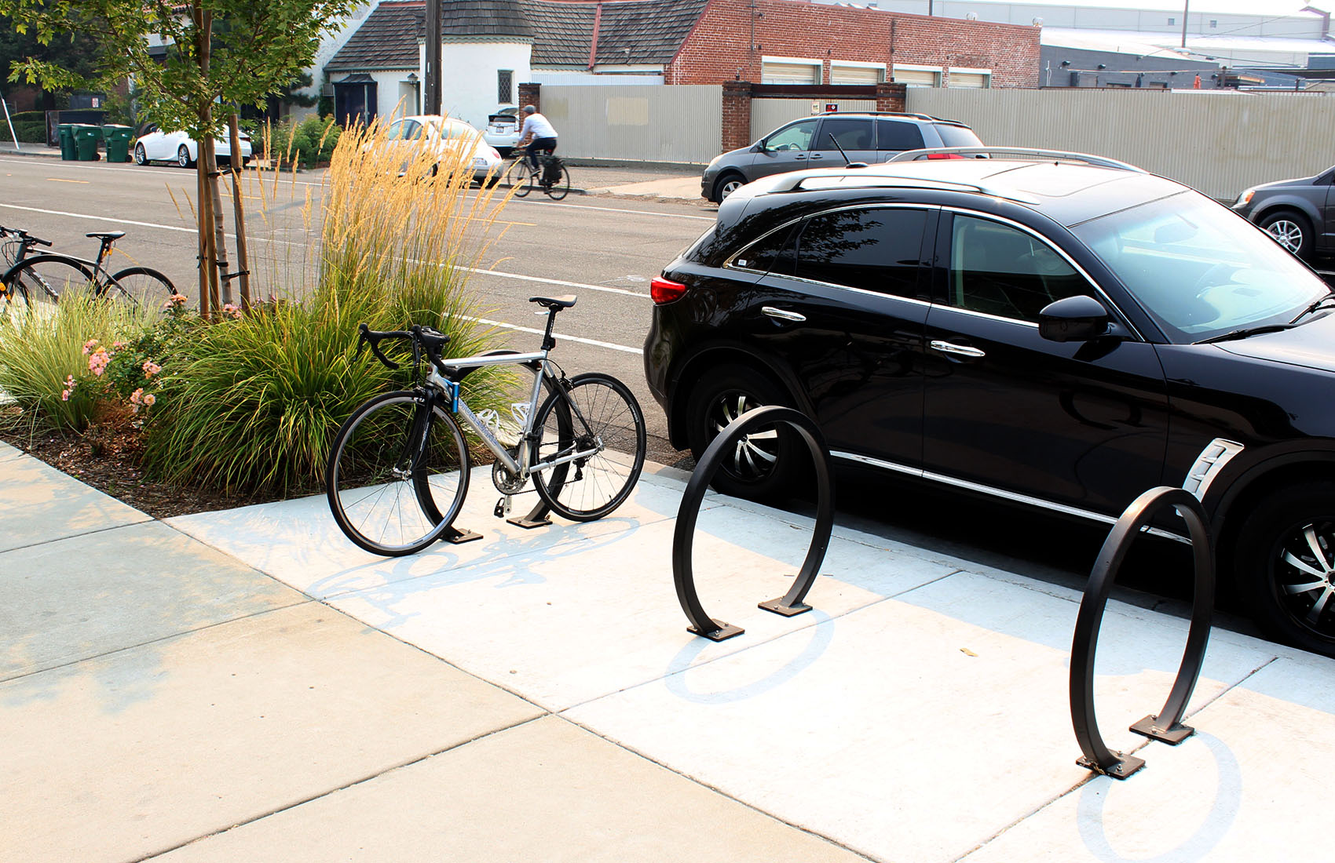Bicycle: (318, 293, 654, 559), (5, 223, 189, 313), (503, 147, 576, 202)
Car: (637, 140, 1332, 635)
Person: (505, 99, 563, 169)
